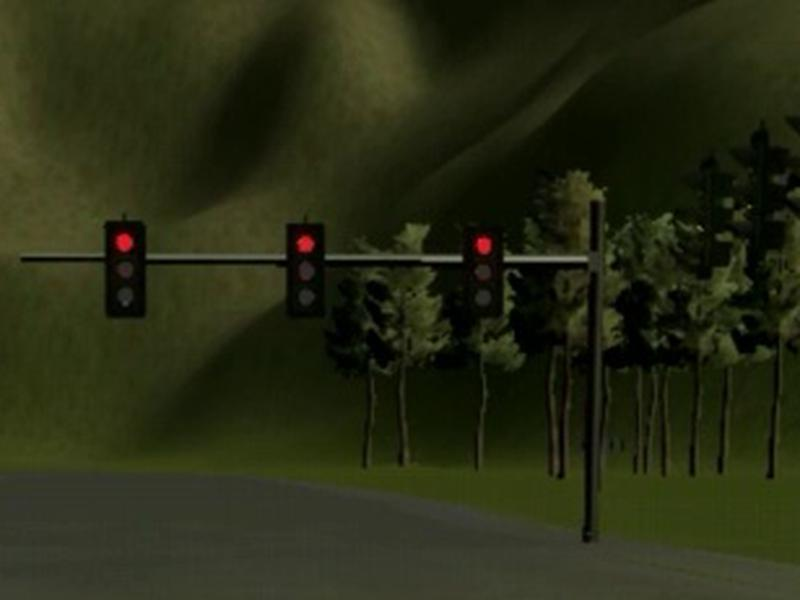Red: (104, 222, 146, 318), (286, 222, 326, 318), (464, 224, 504, 317)
